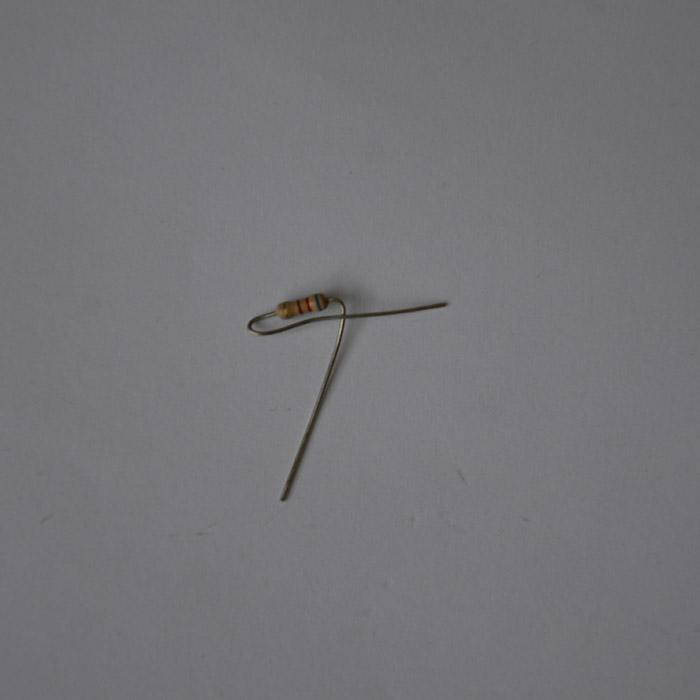resistor: (275, 293, 329, 319)
